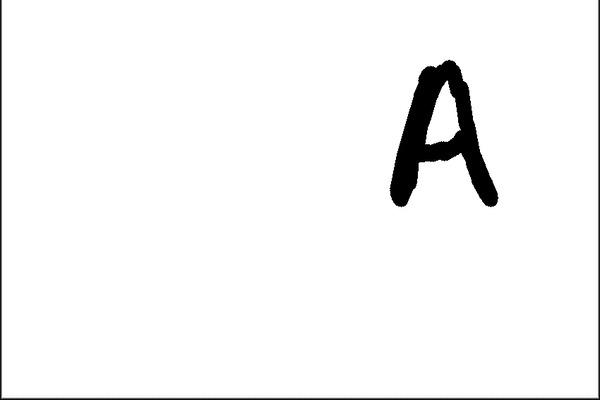A: (376, 47, 507, 213)
